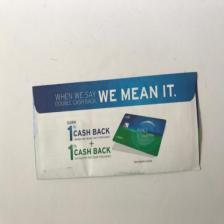paper: (31, 73, 204, 197)
